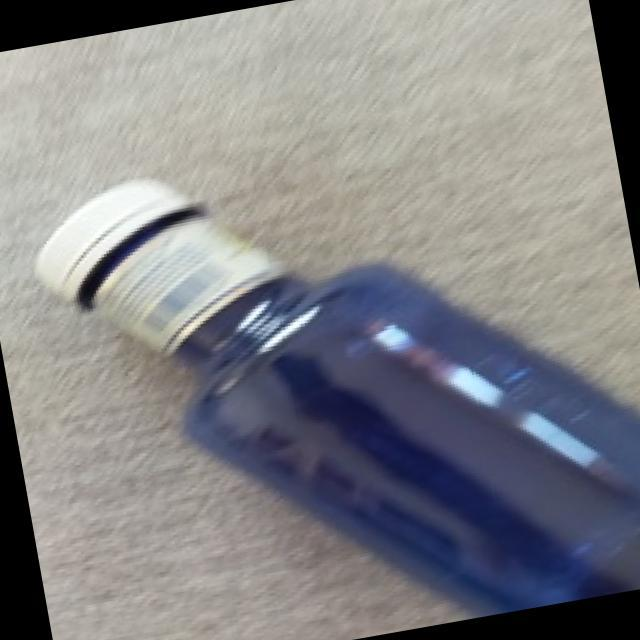good: (22, 87, 640, 640)
